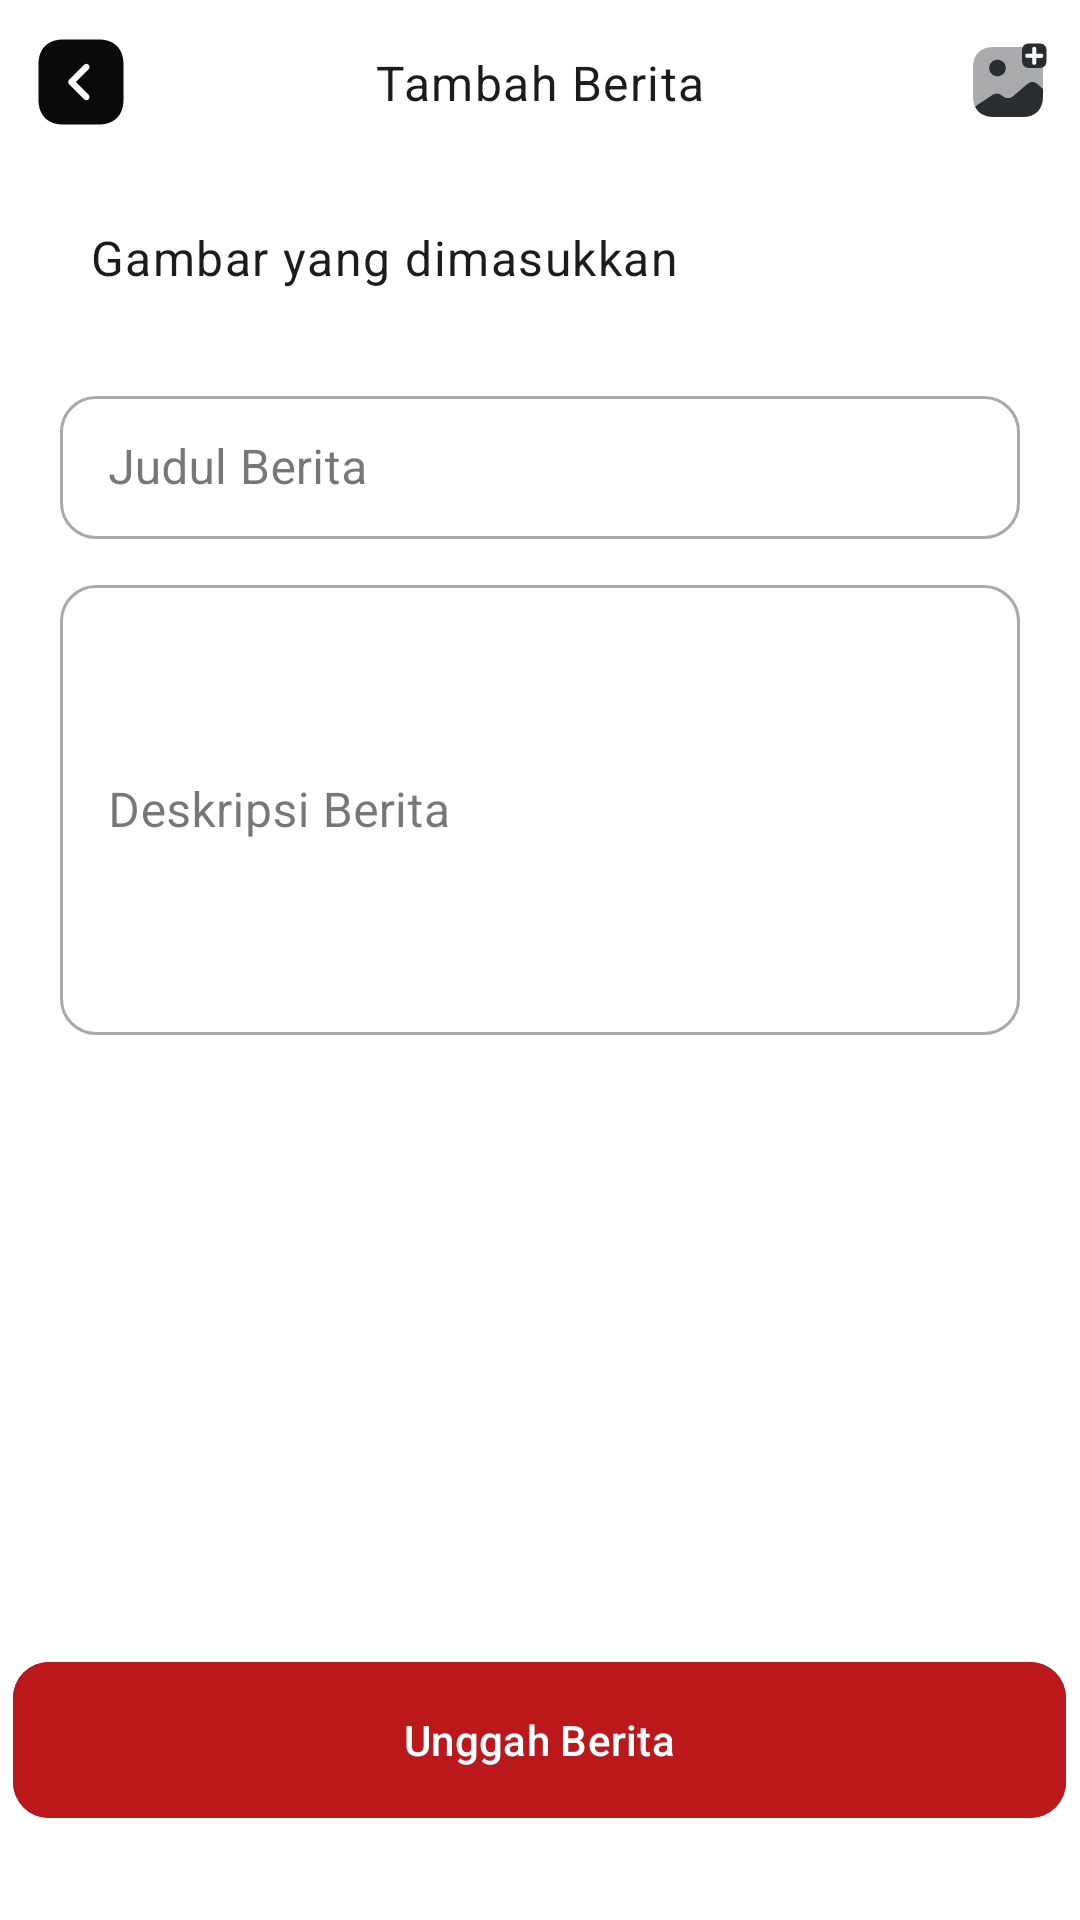

Named icons in this screenshot (1080 × 1920) and their bounding boxes, detection(x1, y1, x2, y2):
add gambar: detection(973, 43, 1047, 117)
back: detection(38, 39, 124, 125)
